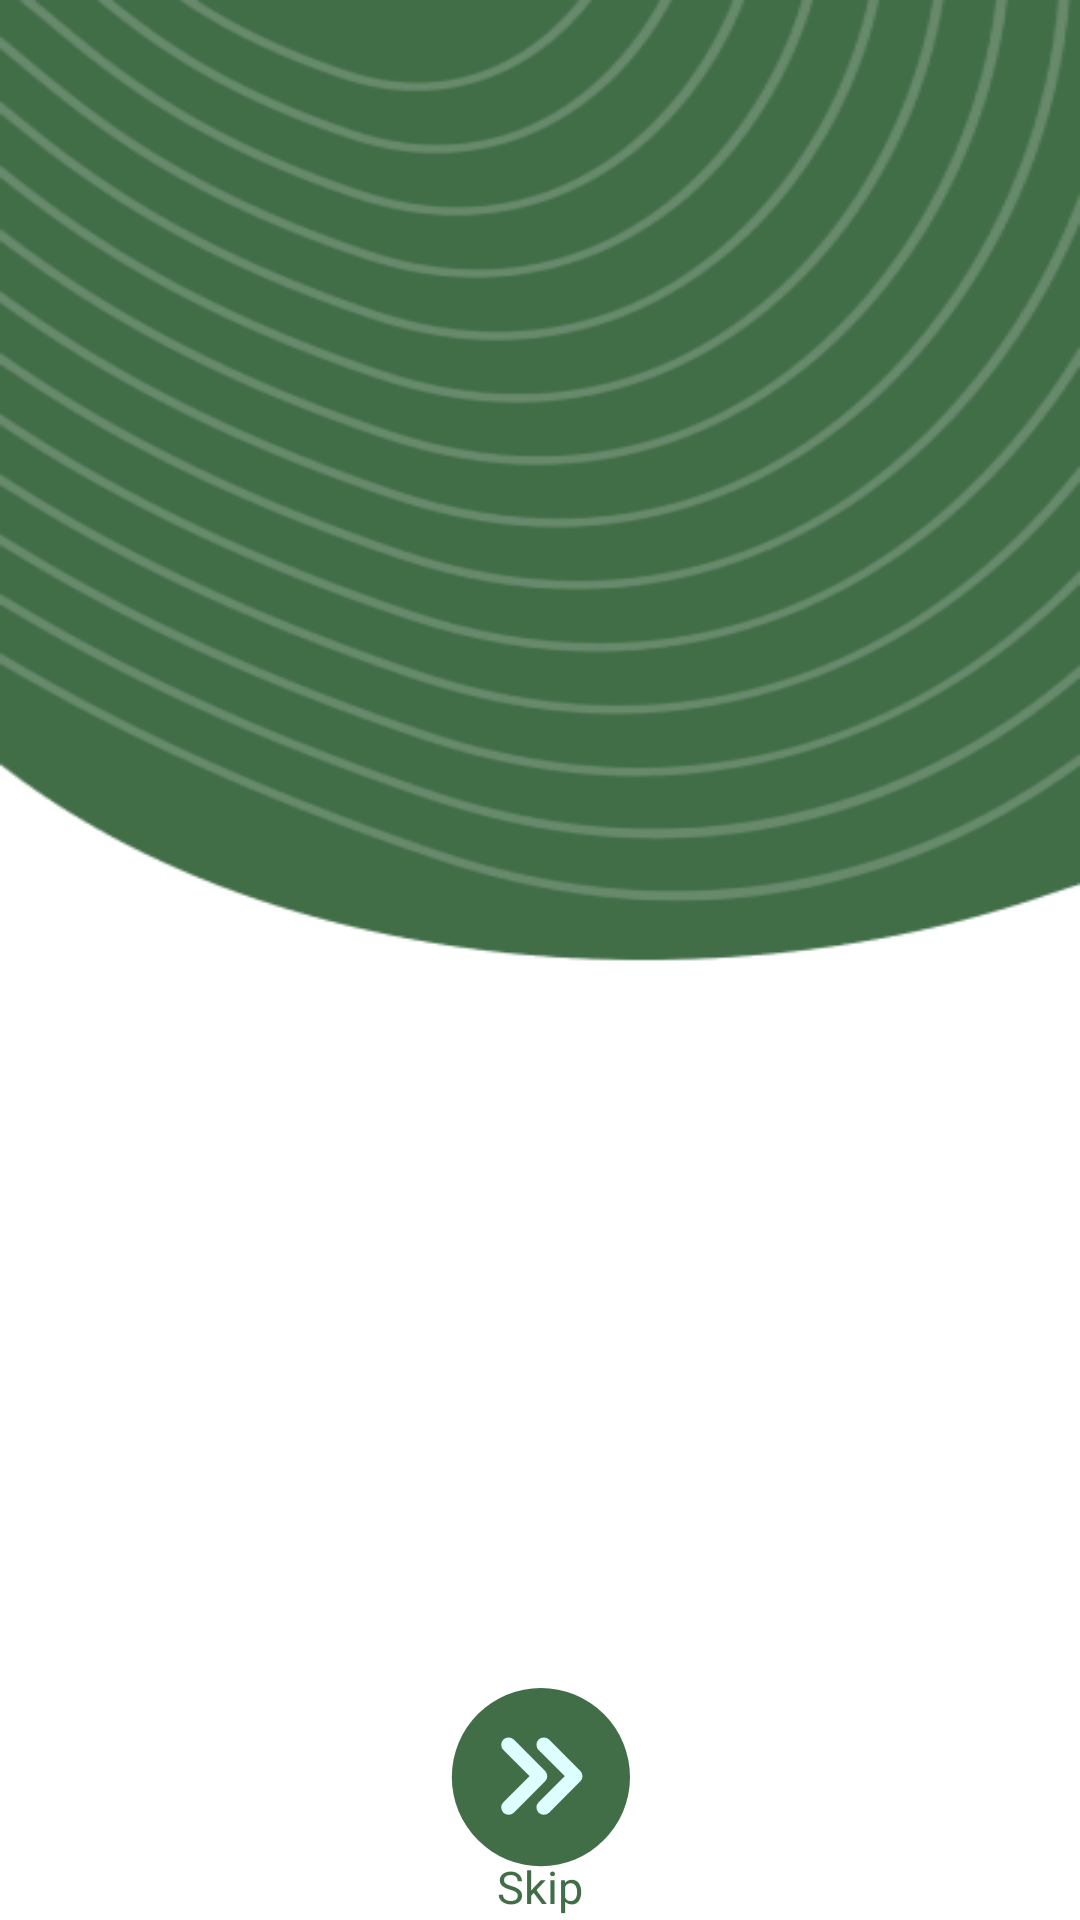

Named icons in this screenshot (1080 x 1920) and their centers, point (x, y):
swiperight: point (540, 1777)
